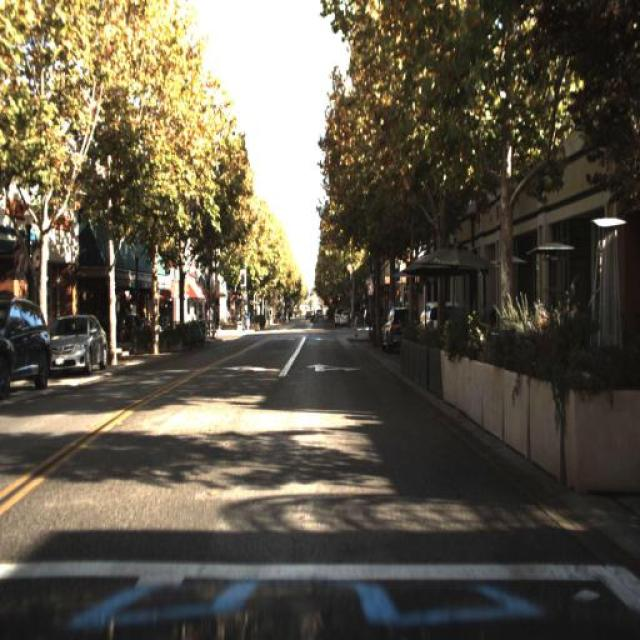car: (0, 298, 51, 394), (52, 308, 108, 377), (413, 291, 466, 349), (379, 306, 412, 356)
trafficLight-RedLeft: (342, 244, 357, 278)
